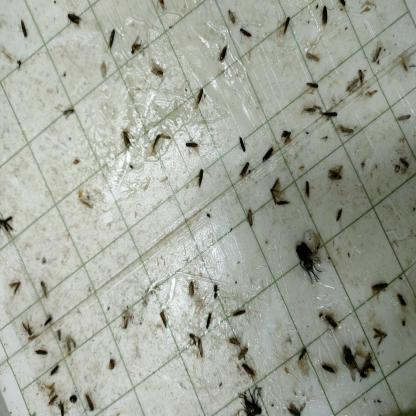prays_oleae: (340, 342, 356, 388), (148, 55, 168, 90), (128, 29, 147, 64), (185, 325, 204, 359), (324, 157, 346, 186), (369, 272, 390, 300), (0, 203, 14, 243), (338, 120, 360, 142), (195, 162, 210, 194), (58, 106, 78, 130), (303, 42, 323, 66), (18, 314, 35, 342), (118, 124, 134, 153), (368, 322, 390, 343), (238, 22, 255, 48), (150, 130, 164, 160), (65, 7, 84, 29), (392, 108, 414, 127), (322, 356, 338, 382), (241, 361, 259, 384), (370, 34, 384, 63), (17, 15, 31, 43), (324, 310, 338, 338), (301, 99, 318, 122), (296, 347, 311, 373), (344, 75, 358, 102), (222, 8, 240, 29), (302, 175, 313, 208), (192, 86, 207, 110), (152, 307, 170, 327), (357, 65, 369, 95), (182, 138, 203, 155), (260, 146, 277, 166), (267, 175, 280, 200), (322, 105, 340, 123), (318, 6, 330, 33), (275, 195, 292, 214), (36, 278, 50, 301), (8, 272, 19, 301), (400, 148, 411, 176), (305, 77, 321, 96), (286, 398, 305, 414), (107, 22, 117, 52), (82, 390, 96, 410), (218, 43, 230, 66), (185, 276, 196, 301), (397, 287, 407, 314), (237, 134, 249, 156), (282, 14, 293, 38), (233, 306, 248, 323), (245, 204, 254, 231), (33, 347, 49, 362), (237, 344, 250, 362), (204, 312, 215, 333), (336, 201, 345, 226), (227, 335, 242, 350), (46, 390, 58, 407), (240, 162, 250, 178), (43, 316, 56, 328), (50, 366, 62, 377), (58, 399, 66, 415)
